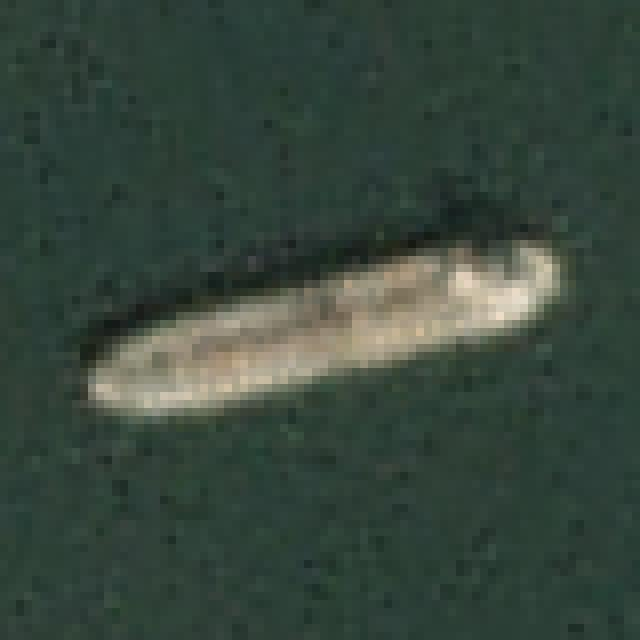ship: (63, 197, 574, 460)
